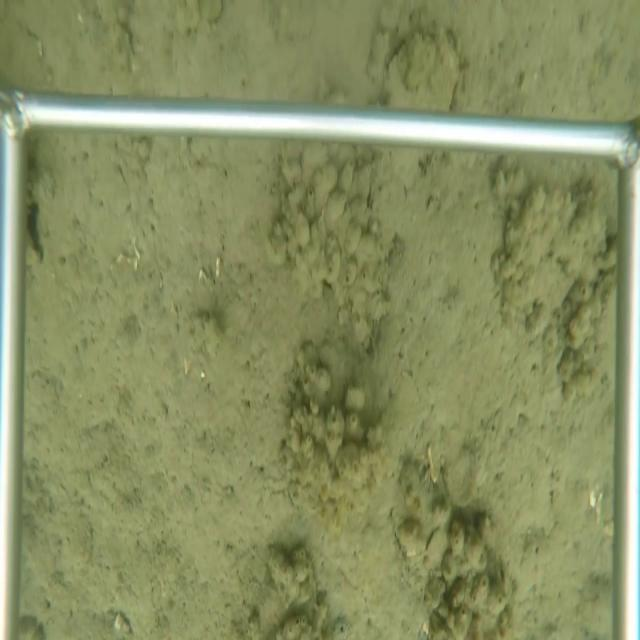Oyster-Indeterminate: (490, 178, 607, 342), (386, 27, 466, 112)
